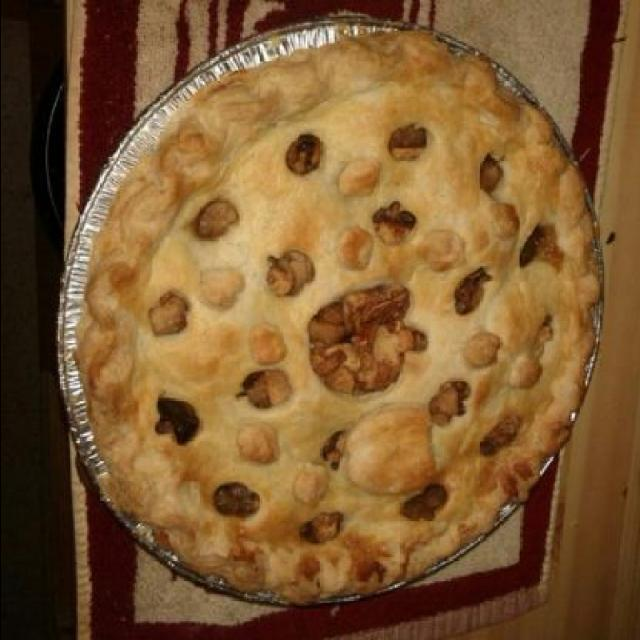Apple: (79, 24, 601, 604)
